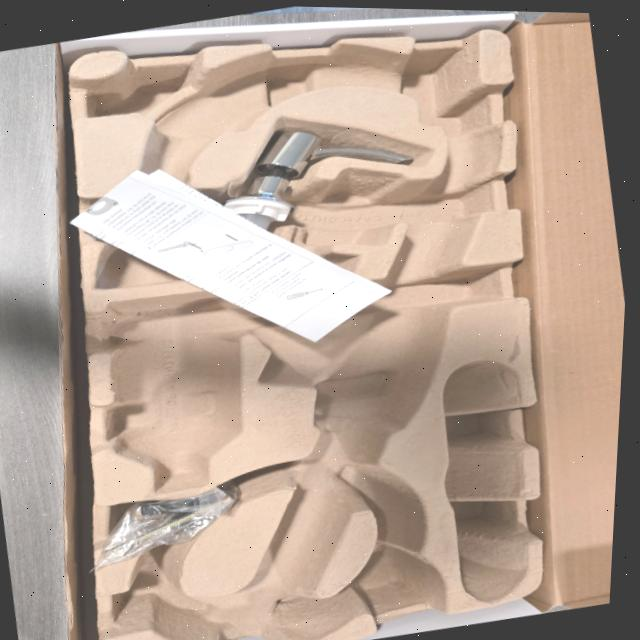1m: (94, 45, 502, 640)
2o: (199, 129, 414, 265)
3m: (109, 288, 244, 494)
4m: (443, 363, 525, 600)
5m: (351, 546, 428, 607)
6m: (111, 564, 220, 640)
7: (87, 486, 241, 571)
8: (68, 167, 392, 343)
